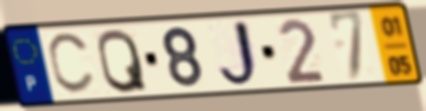2: (274, 15, 328, 87)
7: (325, 8, 366, 86)
8: (160, 24, 206, 90)
C: (45, 30, 98, 97)
J: (216, 18, 265, 91)
Q: (95, 26, 150, 96)
